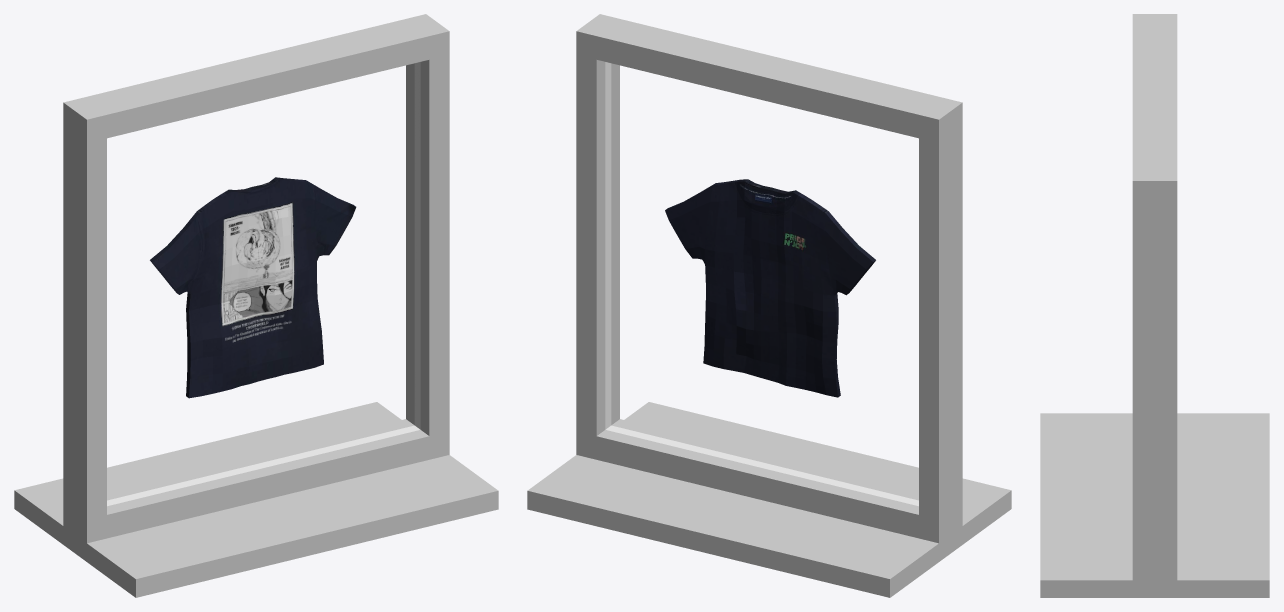
Rendered from sidna_tshirt.glb.
The picture shows the model from 3 angles, left to right: view 1: azimuth 30°, elevation 25°; view 2: azimuth 150°, elevation 25°; view 3: azimuth 270°, elevation 25°; orthographic projection. The views are drawn at different scales.
Parts seen in each view (by area): view 1: Cube.007, Plane.005; view 2: Cube.007, Plane.005; view 3: Cube.007.
Boxes of the visible parts, x1,y1,x2,y2 form: Cube.007: [14, 14, 498, 597]; Plane.005: [150, 177, 356, 398]; Cube.007: [527, 14, 1011, 597]; Plane.005: [665, 179, 875, 397]; Cube.007: [1040, 14, 1269, 597].
Bounding box in the file's own units: 0.6242 × 0.7276 × 0.362.
Materials: 3 (1 with a texture image).
